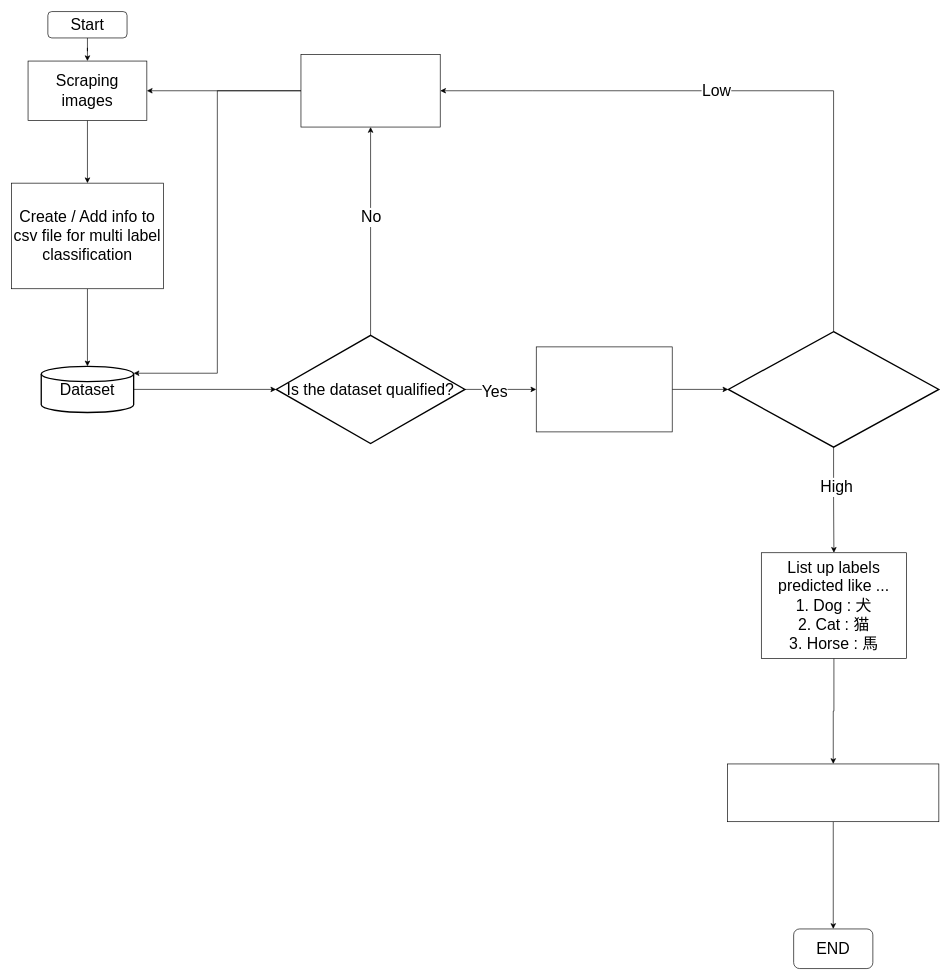
The diagram is 951 pixels wide and 980 high, and some of its shapes have lost their labels. Each missing label, with the box of its shape:
Create a model and train: (536, 346, 672, 432)
Data cleansing: (300, 54, 440, 127)
How much is the accuracy?: (727, 331, 939, 447)
Write an article: (727, 763, 939, 822)
